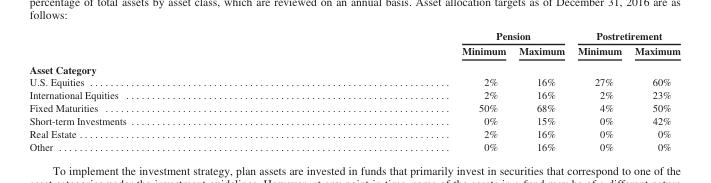table: (28, 29, 679, 152)
table column: (28, 29, 293, 152), (293, 29, 511, 152), (511, 29, 570, 152), (570, 29, 627, 152), (627, 29, 679, 152)
table column header: (28, 29, 679, 59)
table projected row header: (28, 59, 679, 75)
table row: (28, 43, 679, 59), (28, 59, 679, 75), (28, 29, 679, 43), (28, 75, 679, 88), (28, 88, 679, 101), (28, 101, 679, 114), (28, 114, 679, 127), (28, 127, 679, 140), (28, 140, 679, 152)
table spanning cell: (293, 29, 570, 43), (570, 29, 679, 43)
